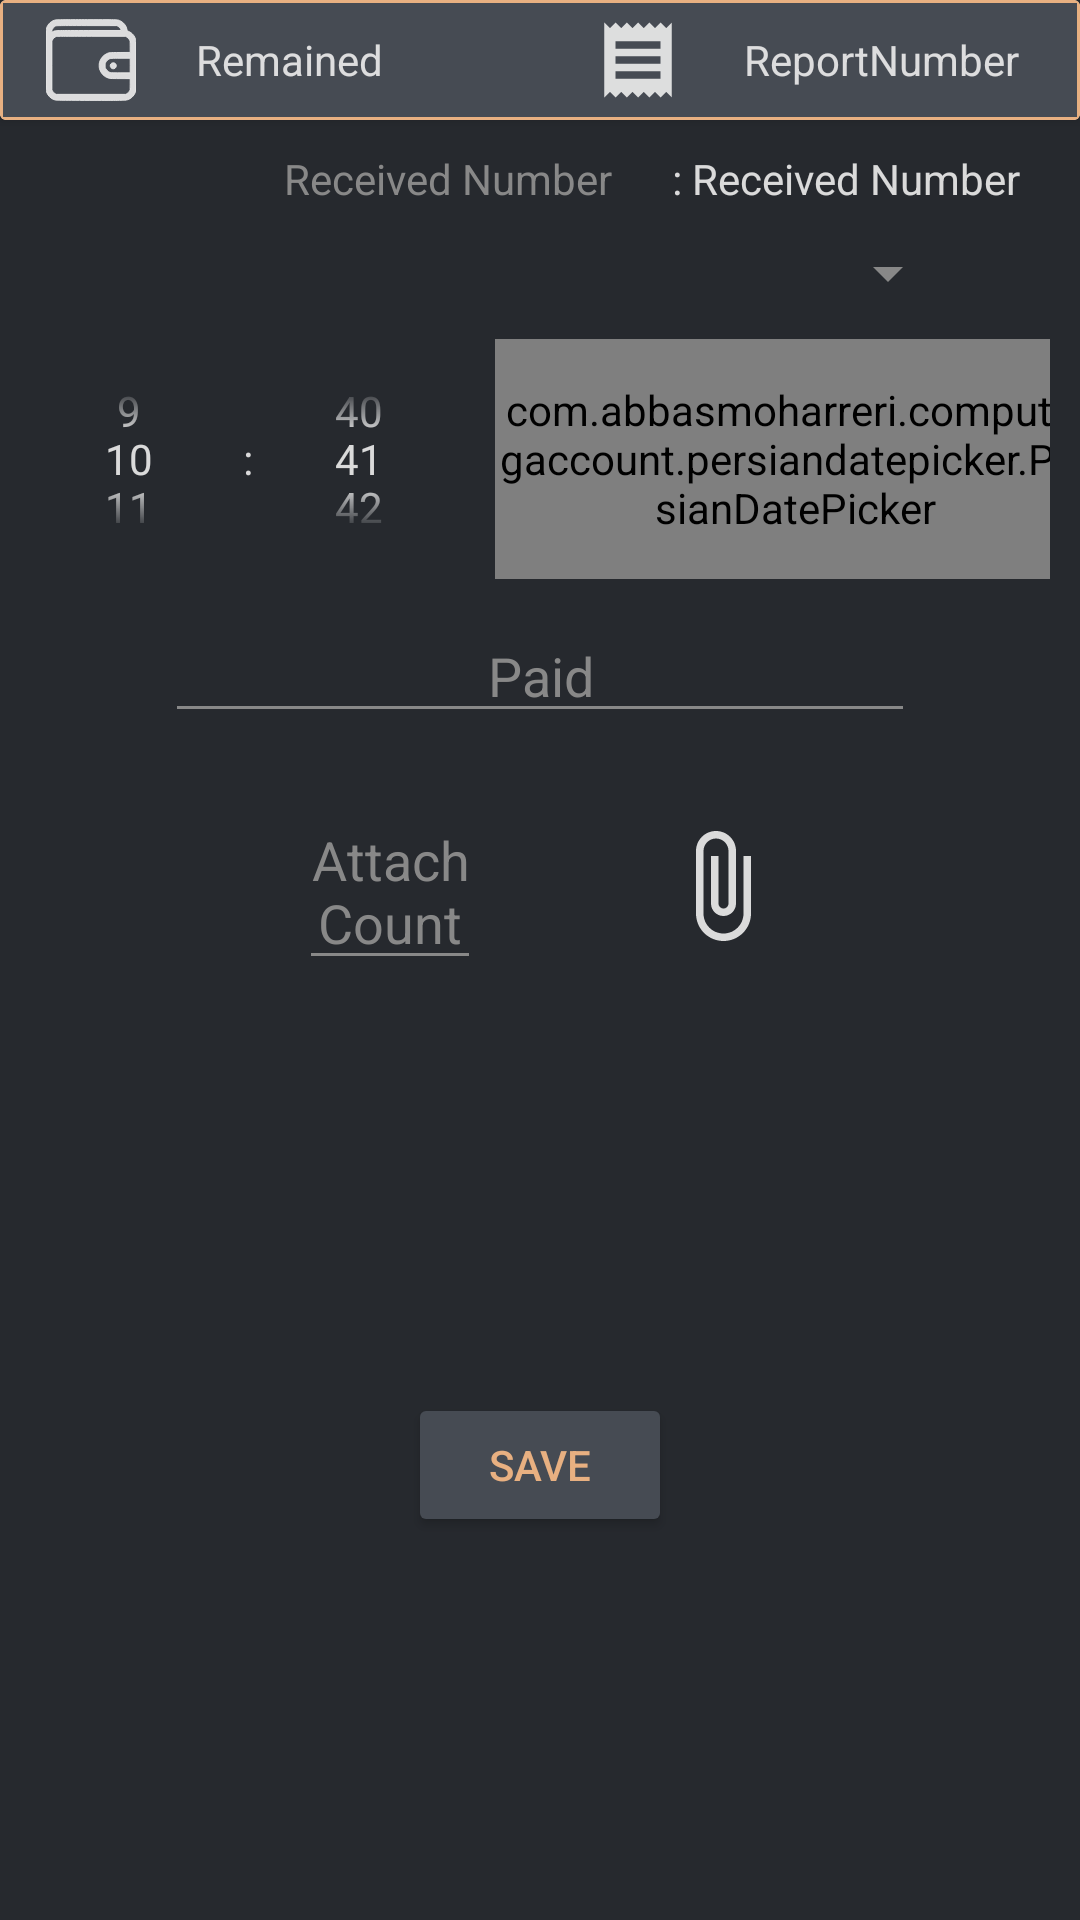

Icon click points for this 1080 × 1920 phone screenshot, format (x,y):
attach file: (723,886)
reports: (638,60)
wallet: (91,60)
